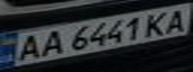1: (121, 13, 148, 42)
4: (87, 19, 112, 48), (106, 17, 130, 45)
6: (66, 22, 93, 52)
A: (9, 33, 48, 62), (33, 28, 69, 58), (160, 6, 193, 34)
K: (139, 9, 175, 38)
